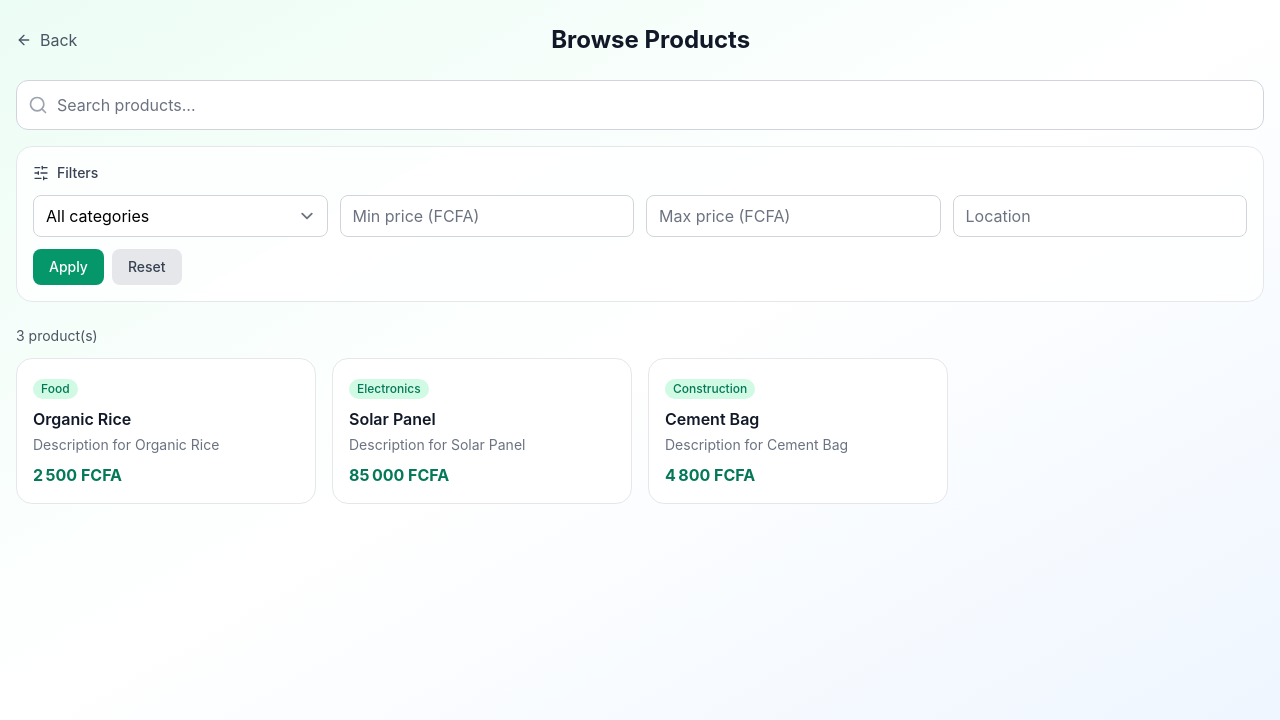
BrowsePage › updates results dynamically when a category filter changes
Check: the heading "Organic Rice" is shown, box [33,409,131,429]
Select "Electronics" in the dropdown with test id "filter-category" at (180, 216), box [33,195,328,237]
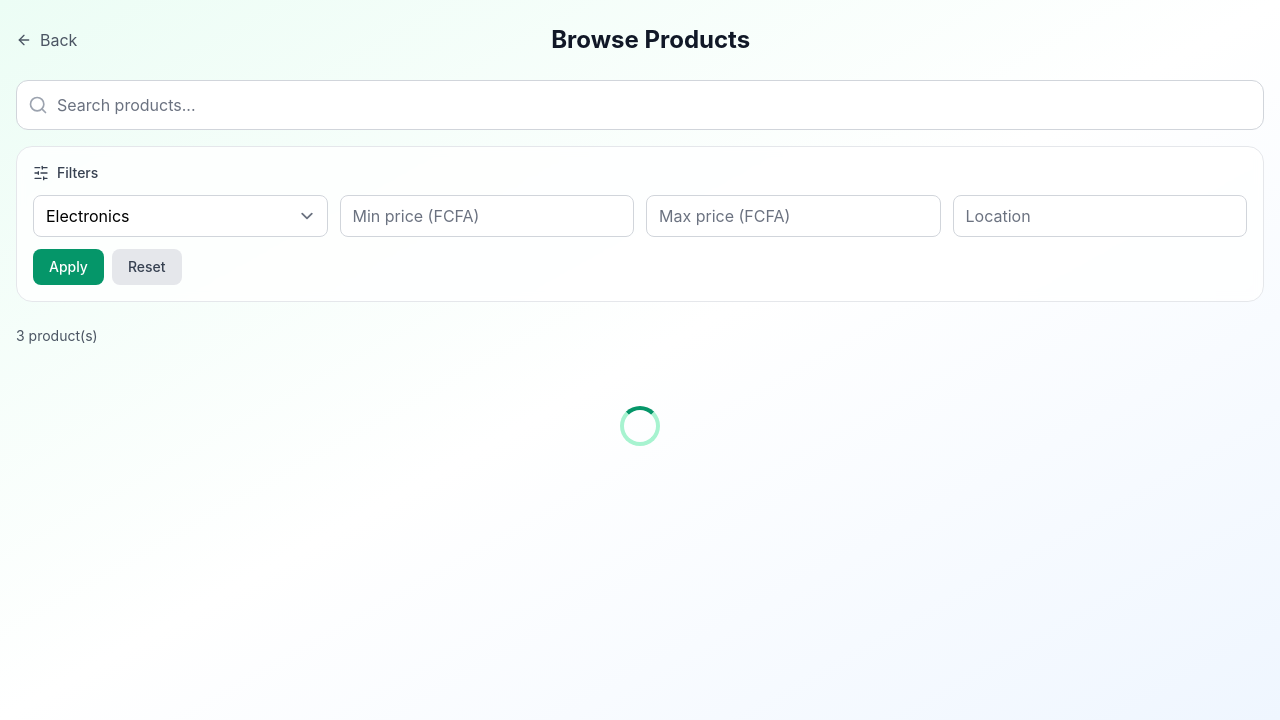
Click the button with test id "apply-filters".
click(68, 267)  # box [33,249,104,285]
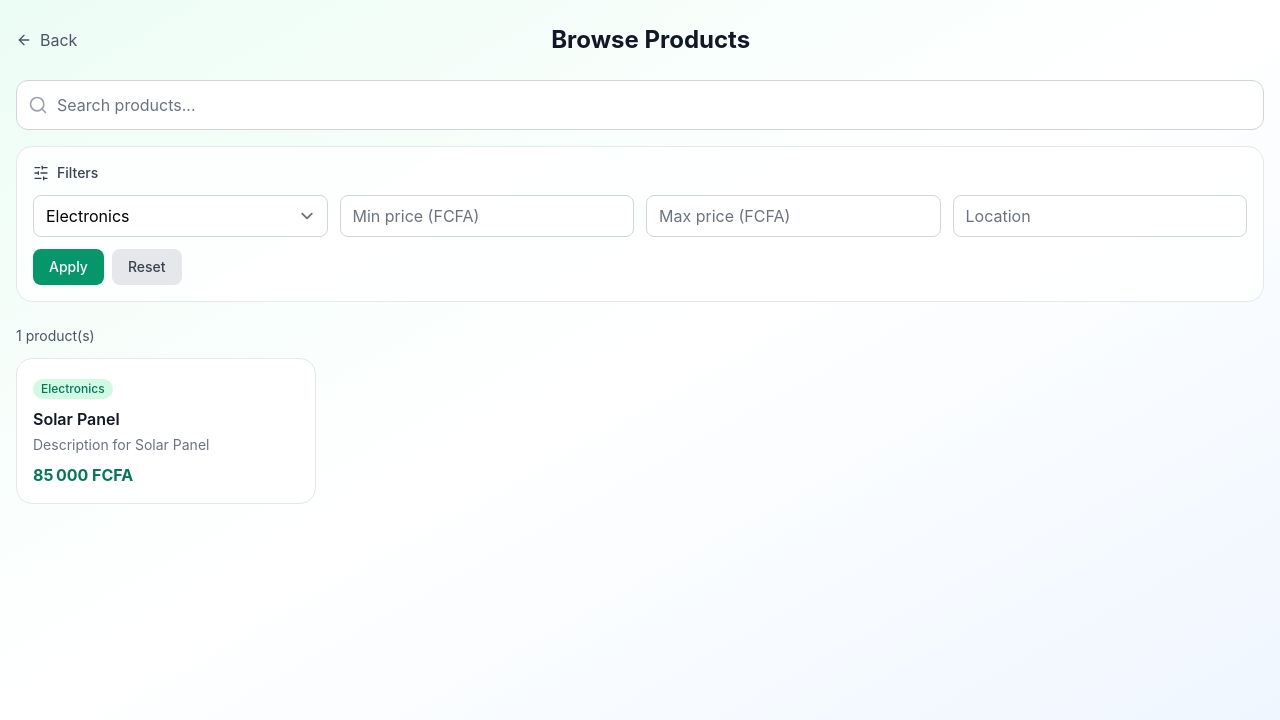
Check: the button "Organic Rice" is not shown
Check: the heading "Solar Panel" is shown, box [33,409,120,429]
